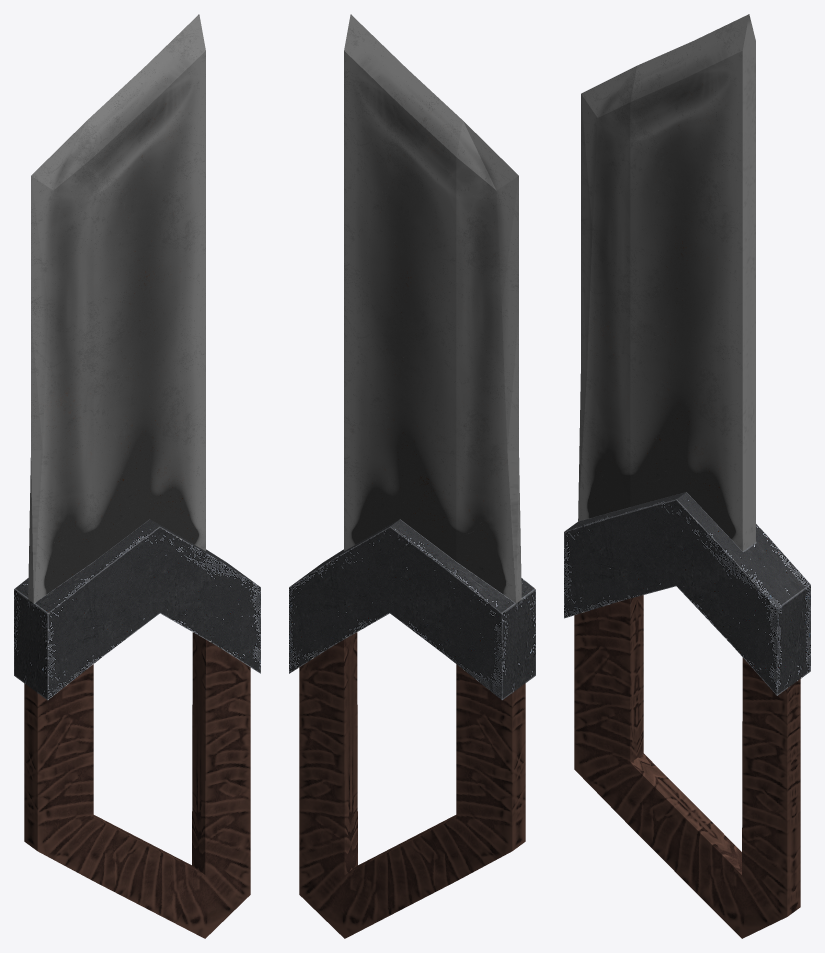
Rendered from Angular Sword.fbx.
The picture shows the model from 3 angles, left to right: view 1: azimuth 30°, elevation 25°; view 2: azimuth 150°, elevation 25°; view 3: azimuth 330°, elevation 25°; orthographic projection.
Parts seen in each view (by area): view 1: Angular_Sword; view 2: Angular_Sword; view 3: Angular_Sword.
Boxes of the visible parts, x1=… form: Angular_Sword: x1=14, y1=14, x2=260, y2=938; Angular_Sword: x1=289, y1=14, x2=535, y2=938; Angular_Sword: x1=564, y1=14, x2=810, y2=938.
Bounding box in the file's own units: 50.01 × 206 × 13.71.
